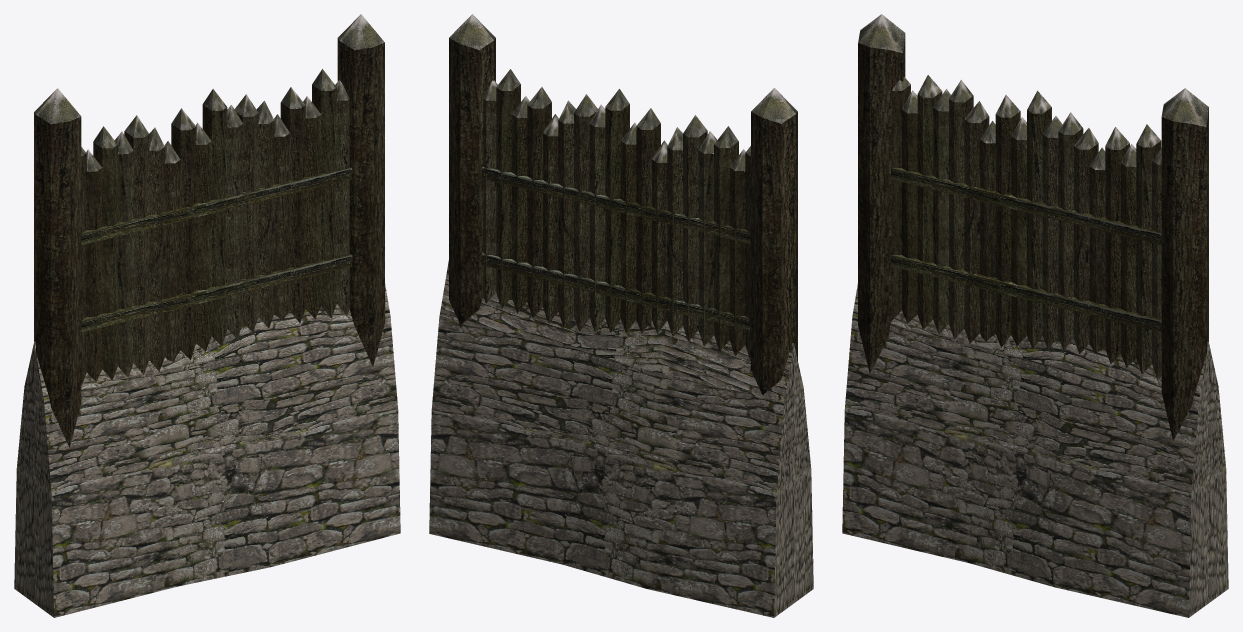
Rendered from mur4.glb.
3 renders of one model, left to right at view 1: azimuth 30°, elevation 25°; view 2: azimuth 150°, elevation 25°; view 3: azimuth 330°, elevation 25°, orthographic.
Visible parts, largest first — view 1: zengin; view 2: zengin; view 3: zengin.
Part boxes in pixels (box(x1,y1,x2,y2)): zengin: box(14, 14, 400, 617); zengin: box(429, 14, 813, 617); zengin: box(842, 14, 1228, 617).
Bounding box in the file's own units: 5.89 × 8.31 × 1.3.
Materials: 4 (4 with a texture image).
